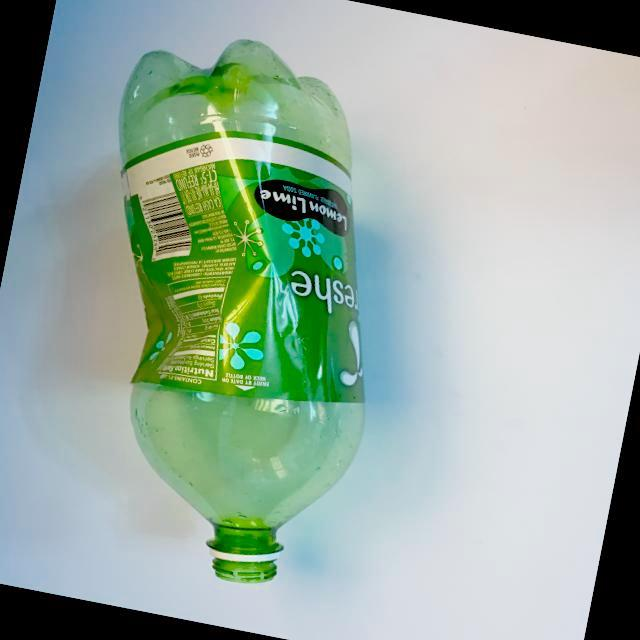plastic: (22, 5, 462, 616)
